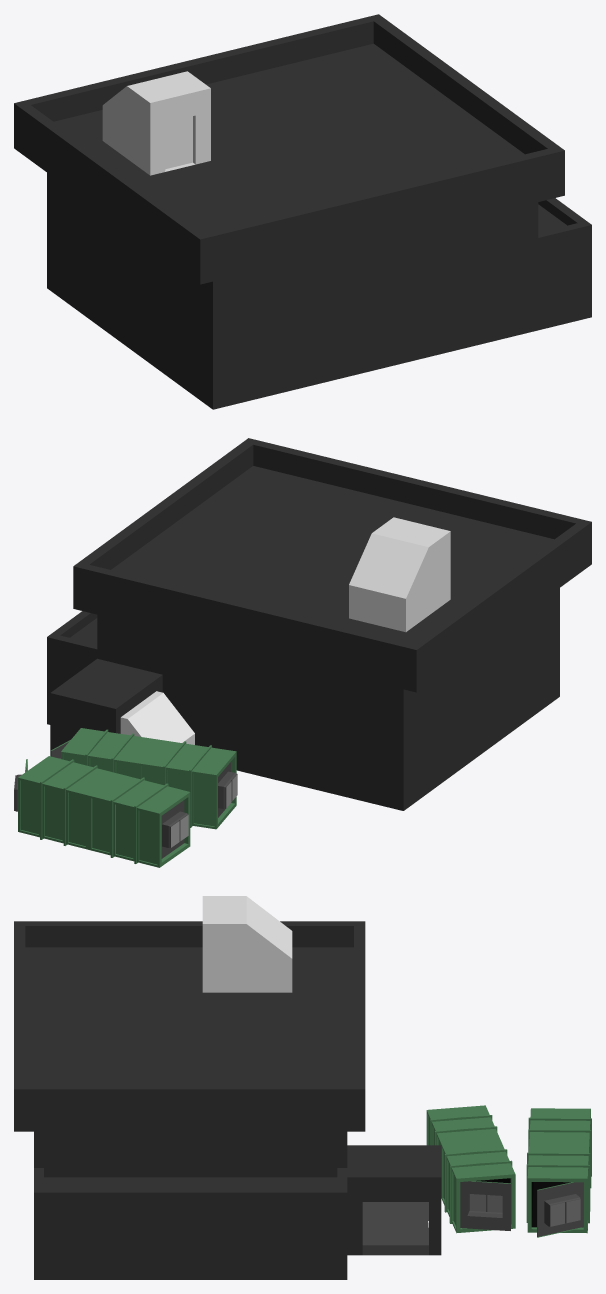
Rendered from dungeon_1.glb.
3 renders of one model, top to bottom at view 1: azimuth 30°, elevation 25°; view 2: azimuth 150°, elevation 25°; view 3: azimuth 270°, elevation 25°, orthographic. The views are drawn at different scales.
Visible parts, largest first — view 1: Cube.001, Cube.002; view 2: Cube.001, container.001, Cube.002, container, Cube; view 3: Cube.001, Cube.002, container, container.001, Cube.003, door, door.001.
Boxes of the visible parts, x1,y1,x2,y2 form: Cube.001: (14,14,591,409); Cube.002: (102,71,210,175); Cube.001: (47,438,591,810); container.001: (18,756,190,867); Cube.002: (349,517,450,632); container: (61,728,237,829); Cube: (120,691,194,744); Cube.001: (14,921,441,1279); Cube.002: (202,896,292,992); container: (426,1105,515,1233); container.001: (526,1108,591,1233); Cube.003: (362,1202,428,1245); door: (460,1181,510,1230); door.001: (537,1182,583,1237).
Size of the model in its own units: 38.74 by 21.6 by 51.06.
